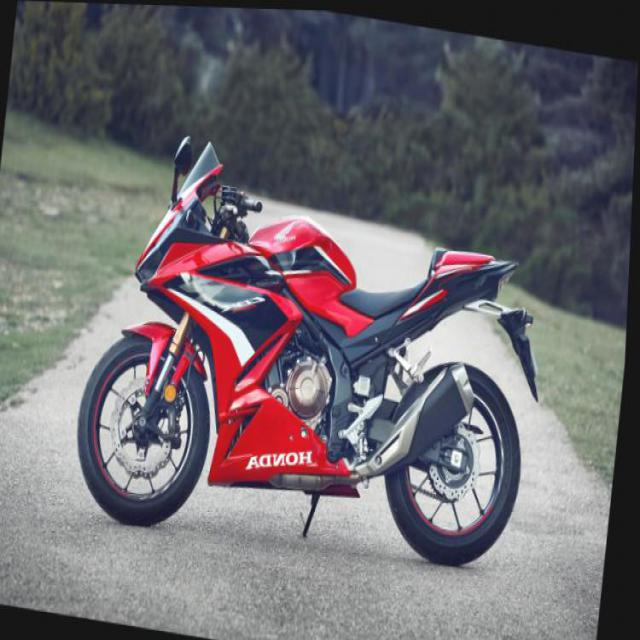CBR500R: (71, 119, 554, 585)
